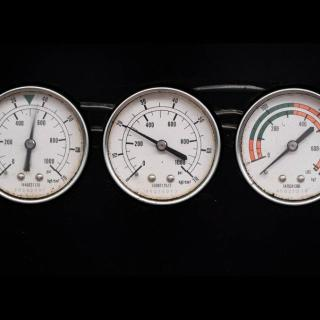gauge: (101, 83, 223, 211), (0, 81, 91, 207), (236, 85, 320, 211), (0, 159, 16, 180), (178, 166, 197, 182), (122, 169, 138, 185), (48, 164, 64, 179), (249, 152, 267, 164), (308, 160, 320, 175), (156, 139, 167, 151), (25, 139, 35, 149), (287, 141, 297, 151), (257, 168, 265, 176), (126, 122, 133, 130), (30, 121, 37, 128)
